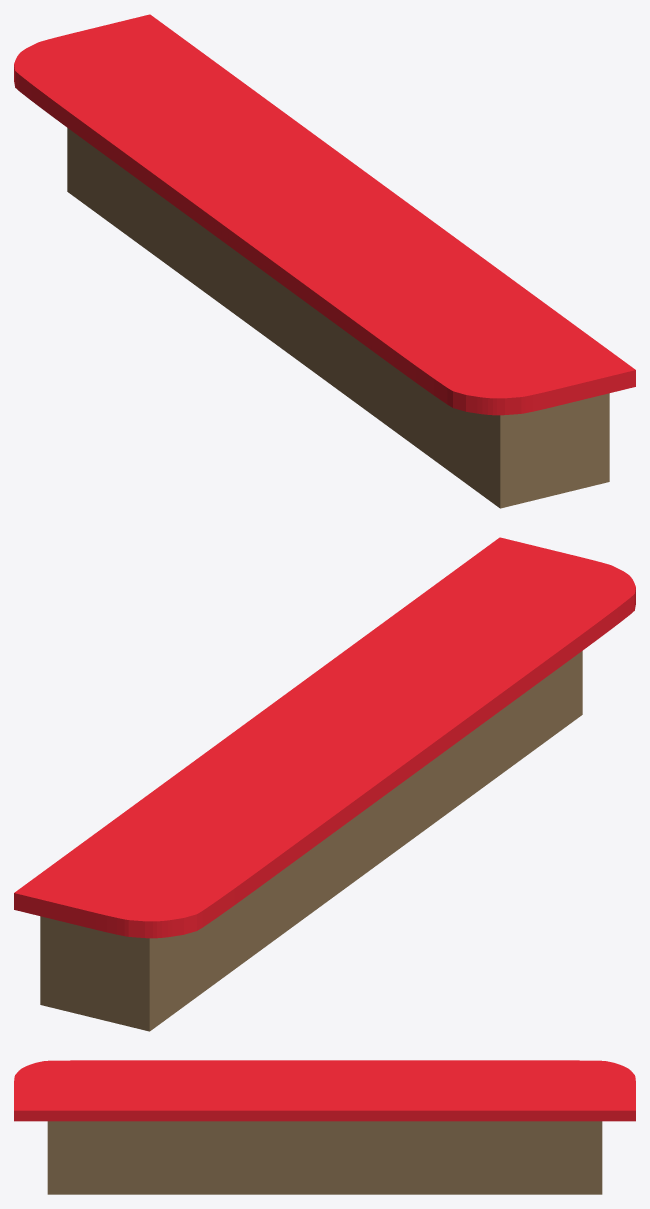
File: bar.fbx
3 renders of one model, top to bottom at view 1: azimuth 30°, elevation 25°; view 2: azimuth 150°, elevation 25°; view 3: azimuth 270°, elevation 25°, orthographic. The views are drawn at different scales.
Parts seen in each view (by area): view 1: Cube; view 2: Cube; view 3: Cube.
Part boxes in pixels (bbox=[...]): Cube: bbox=[14, 14, 635, 508]; Cube: bbox=[14, 537, 635, 1031]; Cube: bbox=[14, 1060, 635, 1194].
Size of the model in its own units: 294 by 229 by 1539.
